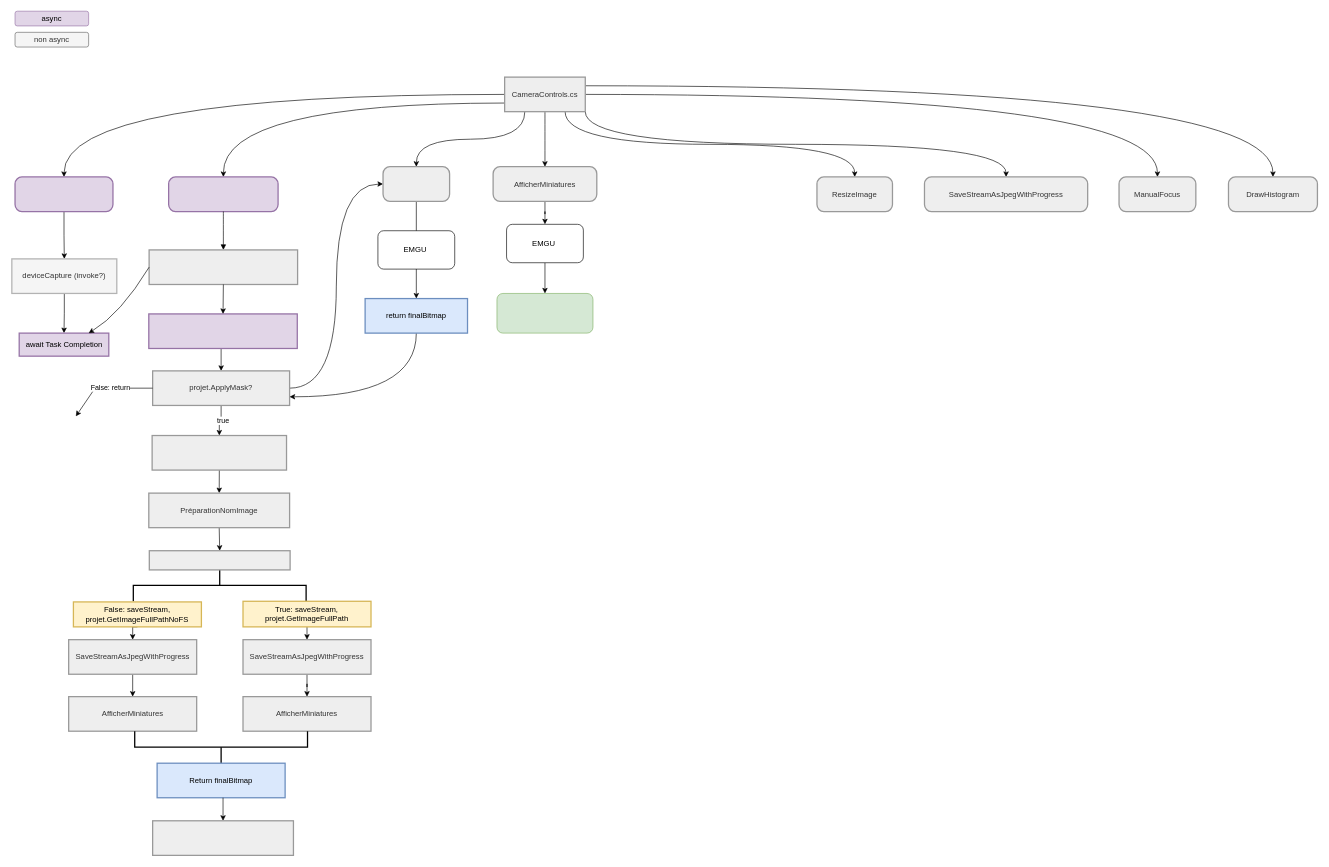
Some shapes in this 1329 by 867 pixel diagram are drawn without their labels. The centre of each missing label's shape, as x and y in pixels:
"ApplyMask" belongs at point 416,184.
"await Task Run : finalBitmap" belongs at point 223,331.
"device_ImageReady" belongs at point 223,194.
"flowLayoutPanel.Controls. Add(borderPanel)" belongs at point 544,313.
"picBox_pictureTaken.Image = finalBitmap" belongs at point 223,838.
"projet.FocusStackEnabled ?" belongs at point 219,560.
"PréparationDossierDestTemp" belongs at point 219,452.
"takePictureAsync" belongs at point 63,194.
"Task Completion (true)" belongs at point 223,267.
